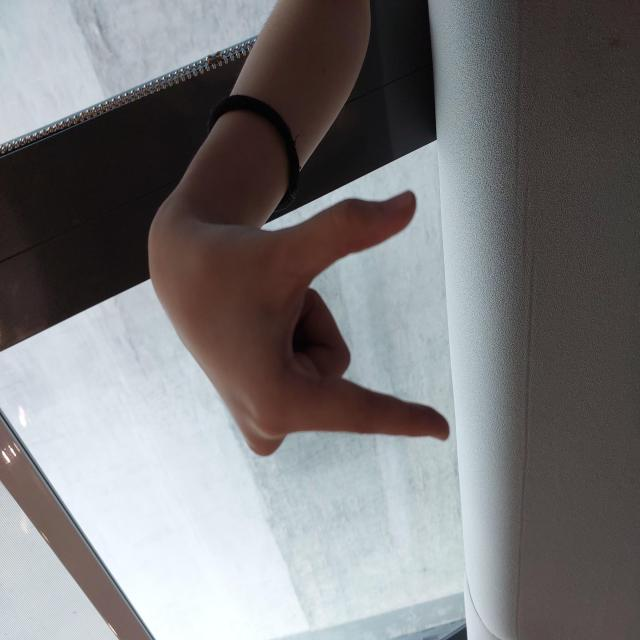Q: (183, 147, 450, 450)
